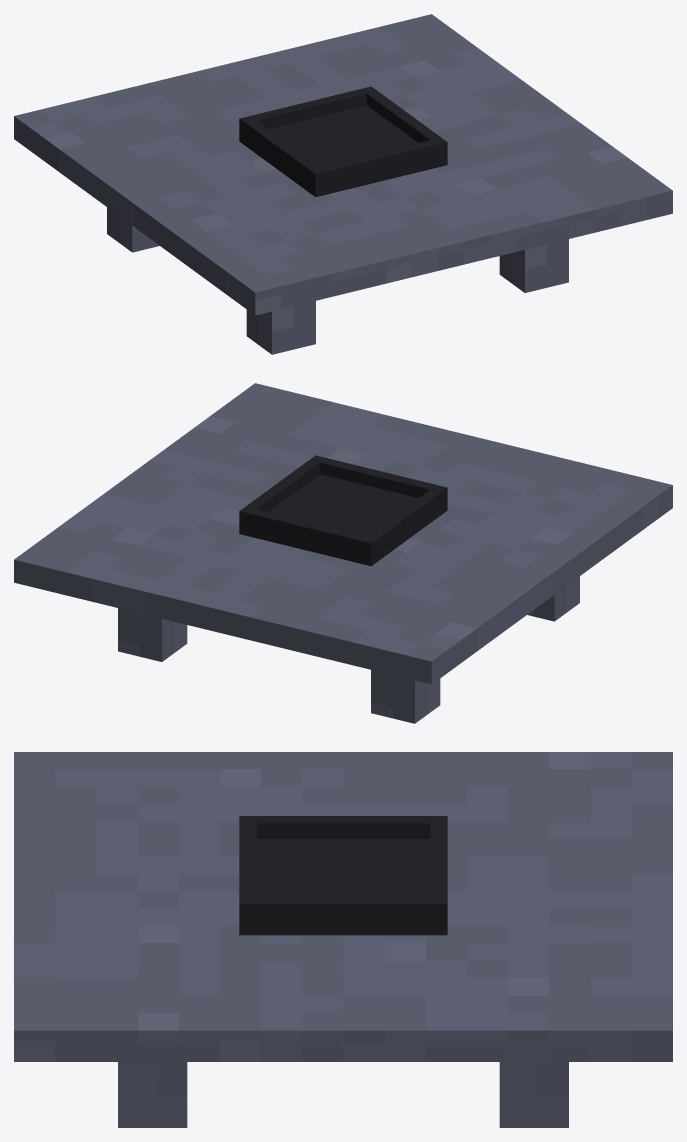
3 views of the same model, one above another, from view 1: azimuth 30°, elevation 25°; view 2: azimuth 150°, elevation 25°; view 3: azimuth 270°, elevation 25° (orthographic). The views are drawn at different scales.
Parts seen in each view (by area): view 1: cube (×9); view 2: cube (×9); view 3: cube (×8).
Boxes of the visible parts, box(x1,y1,x2,y2) form: cube (×9): box(14, 14, 672, 354); cube (×9): box(14, 383, 672, 723); cube (×8): box(14, 752, 672, 1127).
Size of the model in its own units: 2.38 by 0.6875 by 2.38.
Materials: 2 (2 with a texture image).
